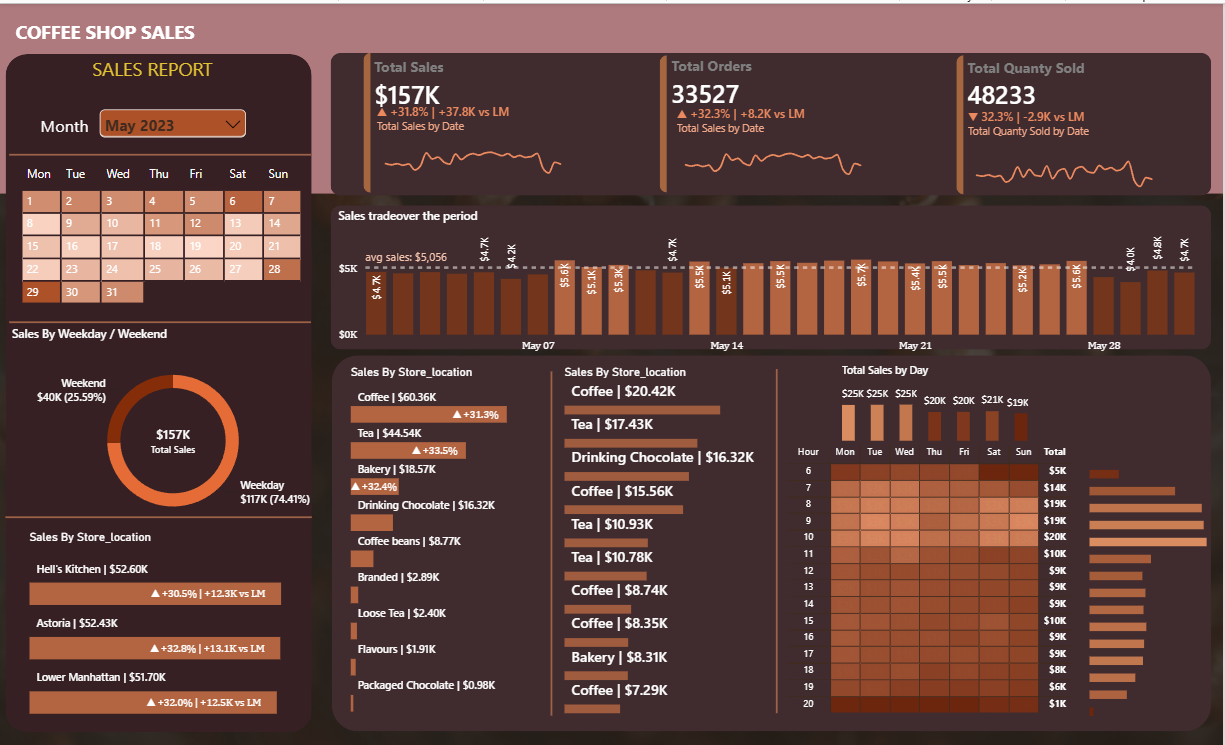

This screenshot's page, from the dashboard's own definition file:
{"tool":"powerbi","page":{"name":"Page 1","canvas":[1400,850],"ordinal":0},"visuals":[{"type":"shape","box":[0,0,1400,216.7],"z":0},{"type":"shape","box":[8.3,56.7,350,775],"z":1000},{"type":"shape","box":[380,55,1006.7,163.3],"z":2000},{"type":"textbox","box":[20,16.7,296.7,40],"z":3000},{"type":"cardVisual","fields":{"Data":["Transactions.Total Sales"]},"box":[413.3,55,250,161.7],"z":4000},{"type":"slicer","fields":{"Values":["Date Table.Month Year"]},"box":[111.7,115,176.7,88.3],"z":5000},{"type":"lineChart","fields":{"Category":["Date Table.Date Hierarchy.Date"],"Y":["Transactions.Total Sales"]},"box":[413.3,110,260,117.5],"z":6000},{"type":"cardVisual","fields":{"Data":["Transactions.Total Quanty Sold"]},"box":[1093.3,58.3,248.3,160],"z":7000},{"type":"lineChart","fields":{"Category":["Date Table.Date Hierarchy.Date"],"Y":["Transactions.Total Quanty Sold"]},"box":[1088.3,115,260,117.5],"z":8000},{"type":"cardVisual","fields":{"Data":["Transactions.Total Orders"]},"box":[751.7,58.3,235,158.3],"z":9000},{"type":"lineChart","fields":{"Category":["Date Table.Date Hierarchy.Date"],"Y":["Transactions.Total Sales"]},"box":[755,111.7,260,117.5],"z":10000},{"type":"pivotTable","fields":{"Columns":["Date Table.Day Name"],"Rows":["Date Table.Week Number"],"Values":["Min(Date Table.Day Number)"]},"box":[20,181.7,338.3,188.3],"z":11000},{"type":"shape","box":[13.3,141.7,345,61.7],"z":12000},{"type":"donutChart","title":"Sales By Weekday / Weekend","fields":{"Category":["Date Table.Weekday / Weekend"],"Y":["Transactions.Total Sales"]},"box":[0,353.3,400,260],"z":13000},{"type":"shape","box":[381.7,401.7,1005,430],"z":14000},{"type":"clusteredBarChart","title":"Sales By Store_location","fields":{"Category":["Transactions.store_location"],"Y":["Date Table.Placeholder","Transactions.Total Sales"]},"box":[20,586.7,360,241.7],"z":15000},{"type":"shape","box":[380,230,1006.7,165],"z":16000},{"type":"columnChart","title":"Sales tradeover the period","fields":{"Category":["Transactions.transaction_date"],"Y":["Transactions.Total Sales"]},"box":[373.3,218.3,1018.3,198.3],"z":17000},{"type":"clusteredBarChart","title":"Sales By Store_location","fields":{"Category":["Transactions.product_category"],"Y":["Date Table.Placeholder","Transactions.Total Sales"]},"box":[386.7,398.3,268.3,430],"z":18000},{"type":"shape","box":[610,420,45,393.3],"z":19000},{"type":"clusteredBarChart","title":"Sales By Store_location","fields":{"Category":["Transactions.product_type"],"Y":["Date Table.Placeholder","Transactions.Total Sales"]},"box":[631.7,398.3,293.3,430],"z":20000},{"type":"shape","box":[870,416.7,40,393.3],"z":21000},{"type":"shape","box":[8.3,555,350,61.7],"z":22000},{"type":"pivotTable","fields":{"Columns":["Date Table.Day Name"],"Rows":["Transactions.Hour"],"Values":["Transactions.Total Sales"]},"box":[885,490,415,338.3],"z":23000},{"type":"barChart","fields":{"Category":["Transactions.Hour"],"Y":["Transactions.Total Sales"]},"box":[1231.7,506.7,168.3,325],"z":24000},{"type":"columnChart","title":"Total Sales by Day ","fields":{"Category":["Date Table.Day Name"],"Y":["Transactions.Total Sales"]},"box":[948.3,395,245,120],"z":25000},{"type":"shape","box":[13.3,333.3,345,61.7],"z":26000},{"type":"textbox","box":[48.3,125,63.3,45],"z":27000},{"type":"textbox","box":[85,58.3,295,53.3],"z":27001}]}

Visuals, with their boxes in screenshot pixels (x1, y1, x2, y2), scaled from the page's 1400x850 canvas onto the 1225x745 screenshot:
shape: locate(0, 0, 1224, 190)
shape: locate(7, 50, 314, 729)
shape: locate(332, 48, 1213, 191)
textbox: locate(18, 15, 277, 50)
cardVisual - Transactions.Total Sales: locate(362, 48, 580, 190)
slicer - Date Table.Month Year: locate(98, 101, 252, 178)
lineChart - Date Table.Date Hierarchy.Date x Transactions.Total Sales: locate(362, 96, 589, 199)
cardVisual - Transactions.Total Quanty Sold: locate(957, 51, 1174, 191)
lineChart - Date Table.Date Hierarchy.Date x Transactions.Total Quanty Sold: locate(952, 101, 1180, 204)
cardVisual - Transactions.Total Orders: locate(658, 51, 863, 190)
lineChart - Date Table.Date Hierarchy.Date x Transactions.Total Sales: locate(661, 98, 888, 201)
pivotTable - Date Table.Day Name x Date Table.Week Number: locate(18, 159, 314, 324)
shape: locate(12, 124, 314, 178)
"Sales By Weekday / Weekend" donutChart: locate(0, 310, 350, 538)
shape: locate(334, 352, 1213, 729)
"Sales By Store_location" clusteredBarChart: locate(18, 514, 332, 726)
shape: locate(332, 202, 1213, 346)
"Sales tradeover the period" columnChart: locate(327, 191, 1218, 365)
"Sales By Store_location" clusteredBarChart: locate(338, 349, 573, 726)
shape: locate(534, 368, 573, 713)
"Sales By Store_location" clusteredBarChart: locate(553, 349, 809, 726)
shape: locate(761, 365, 796, 710)
shape: locate(7, 486, 314, 541)
pivotTable - Date Table.Day Name x Transactions.Hour: locate(774, 429, 1138, 726)
barChart - Transactions.Hour x Transactions.Total Sales: locate(1078, 444, 1224, 729)
"Total Sales by Day " columnChart: locate(830, 346, 1044, 451)
shape: locate(12, 292, 314, 346)
textbox: locate(42, 110, 98, 149)
textbox: locate(74, 51, 332, 98)
